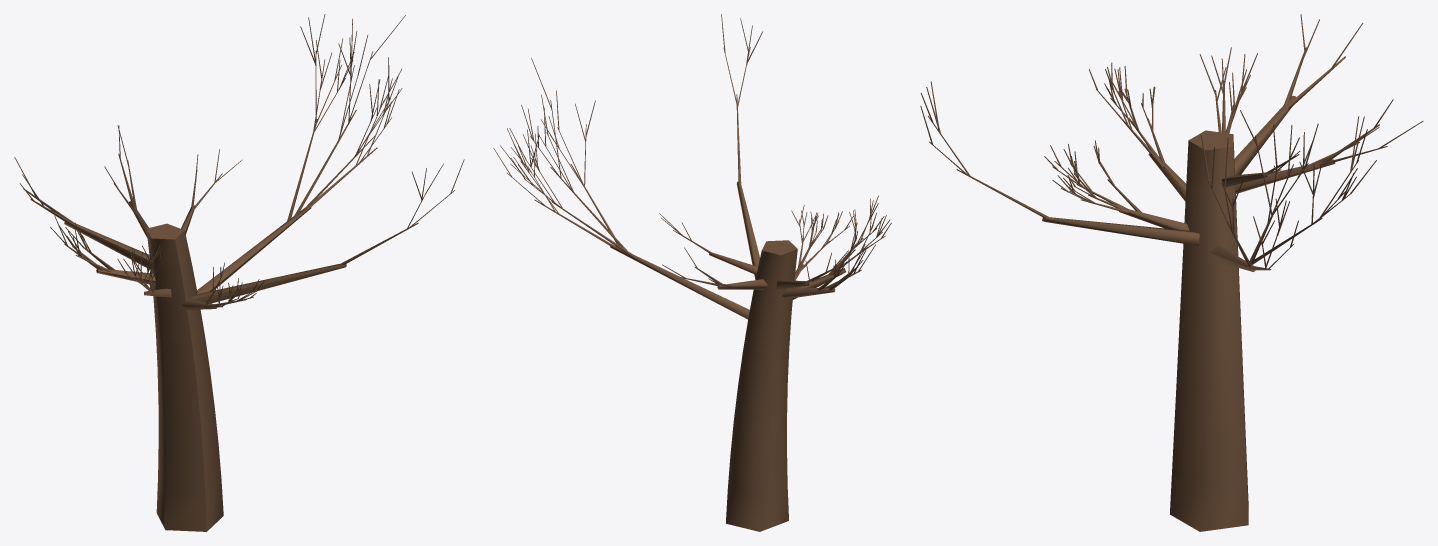
The model's file is veg-tree-firsttree-tree-glb-a.glb.
The picture shows the model from 3 angles, left to right: view 1: azimuth 30°, elevation 25°; view 2: azimuth 150°, elevation 25°; view 3: azimuth 270°, elevation 25°; orthographic projection. The views are drawn at different scales.
Parts seen in each view (by area): view 1: ProceduralTreeTrunk; view 2: ProceduralTreeTrunk; view 3: ProceduralTreeTrunk.
Part boxes in pixels (bbox=[...]): ProceduralTreeTrunk: bbox=[14, 14, 464, 531]; ProceduralTreeTrunk: bbox=[493, 14, 891, 531]; ProceduralTreeTrunk: bbox=[920, 14, 1423, 531].
Size of the model in its own units: 3.45 by 3.84 by 3.23.
